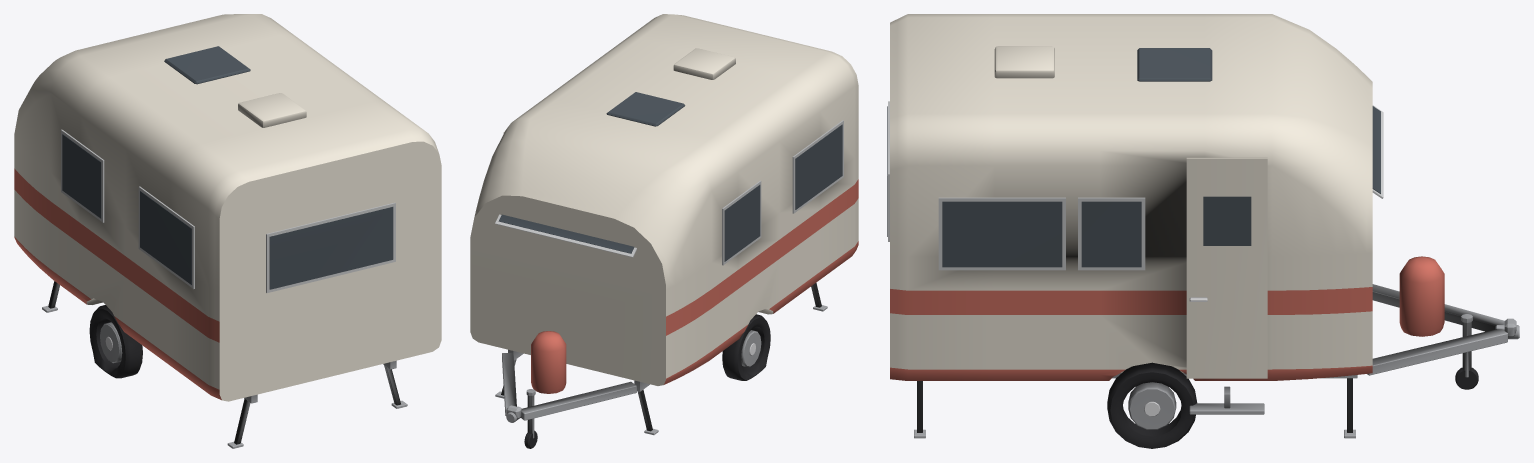
File: caravan.glb
3 renders of one model, left to right at view 1: azimuth 30°, elevation 25°; view 2: azimuth 150°, elevation 25°; view 3: azimuth 270°, elevation 25°, orthographic. The views are drawn at different scales.
Parts seen in each view (by area): view 1: PART; view 2: PART; view 3: PART.
Boxes of the visible parts, x1,y1,x2,y2 form: PART: (14,14,441,448); PART: (470,14,858,448); PART: (887,14,1519,448).
Size of the model in its own units: 2.11 by 2.44 by 4.22.
